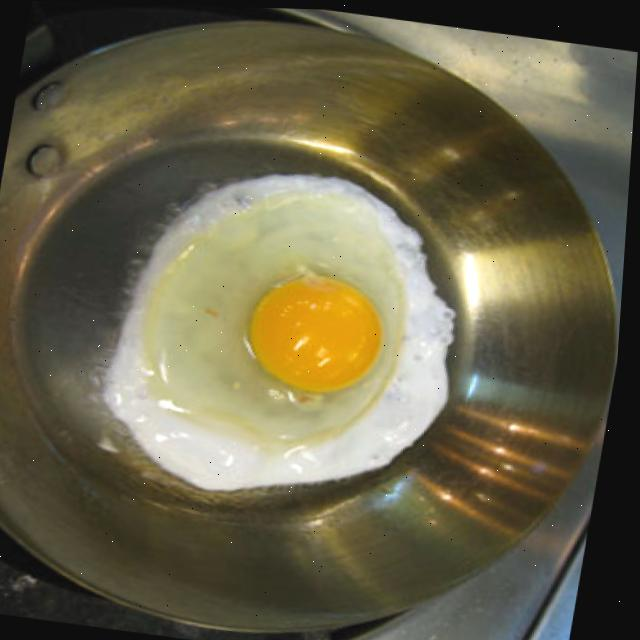鸡蛋料理: (91, 134, 501, 535)
